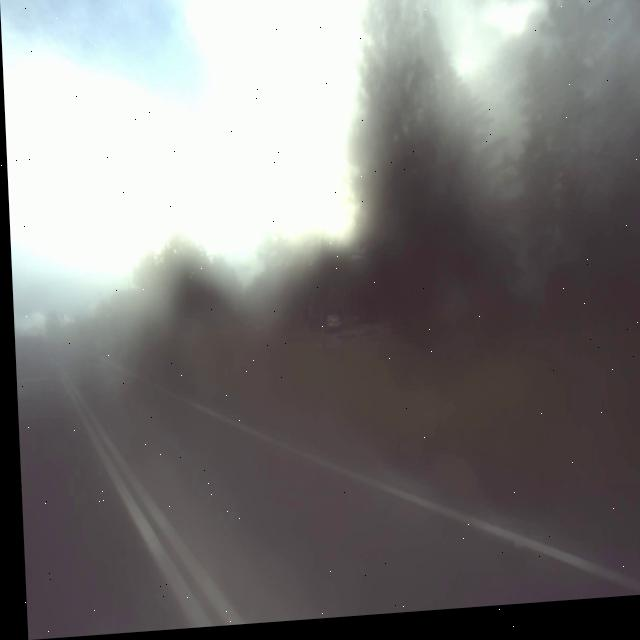car: (12, 320, 69, 476)
